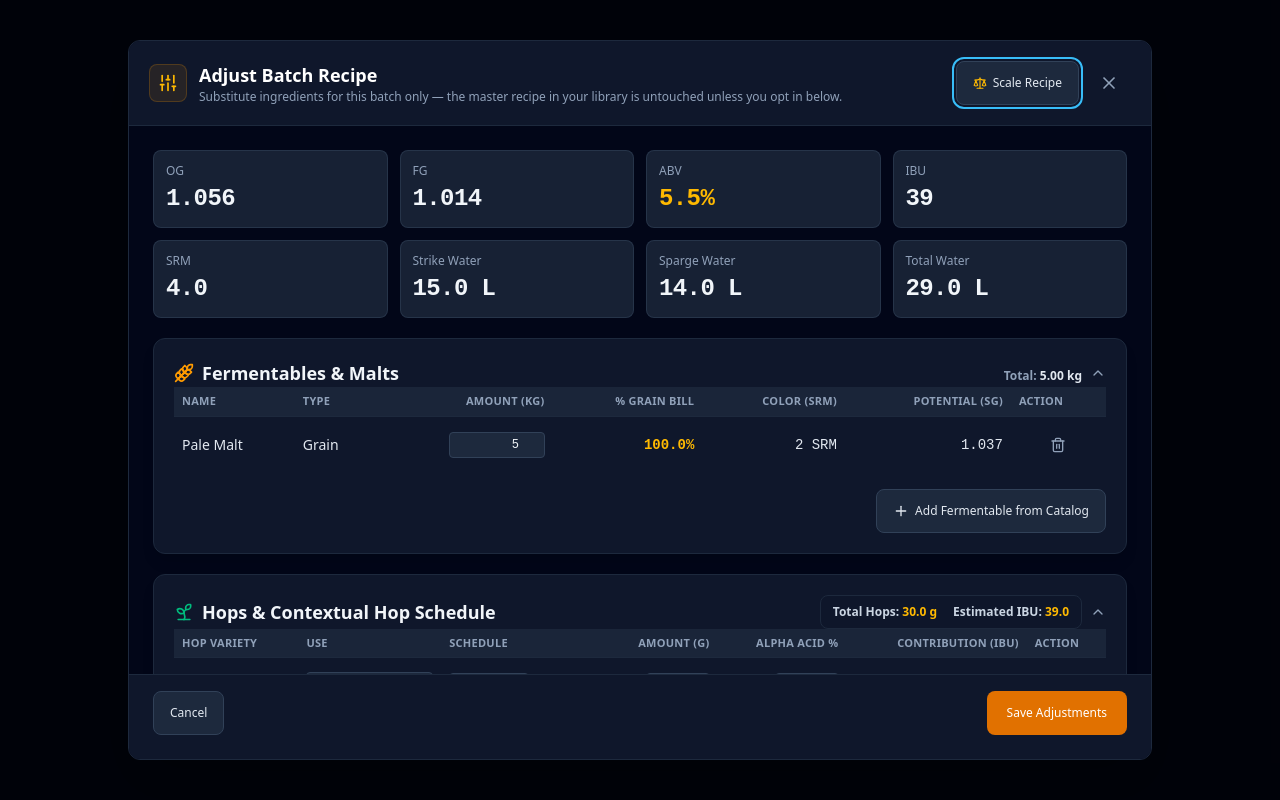
Scenario: AC-6: master recipe sync toggle › a rejected save surfaces the error and does not close the modal
Click the button with test id "batch-recipe-adjust-save-btn" at point(1057, 713), box 987,691 -> 1127,735
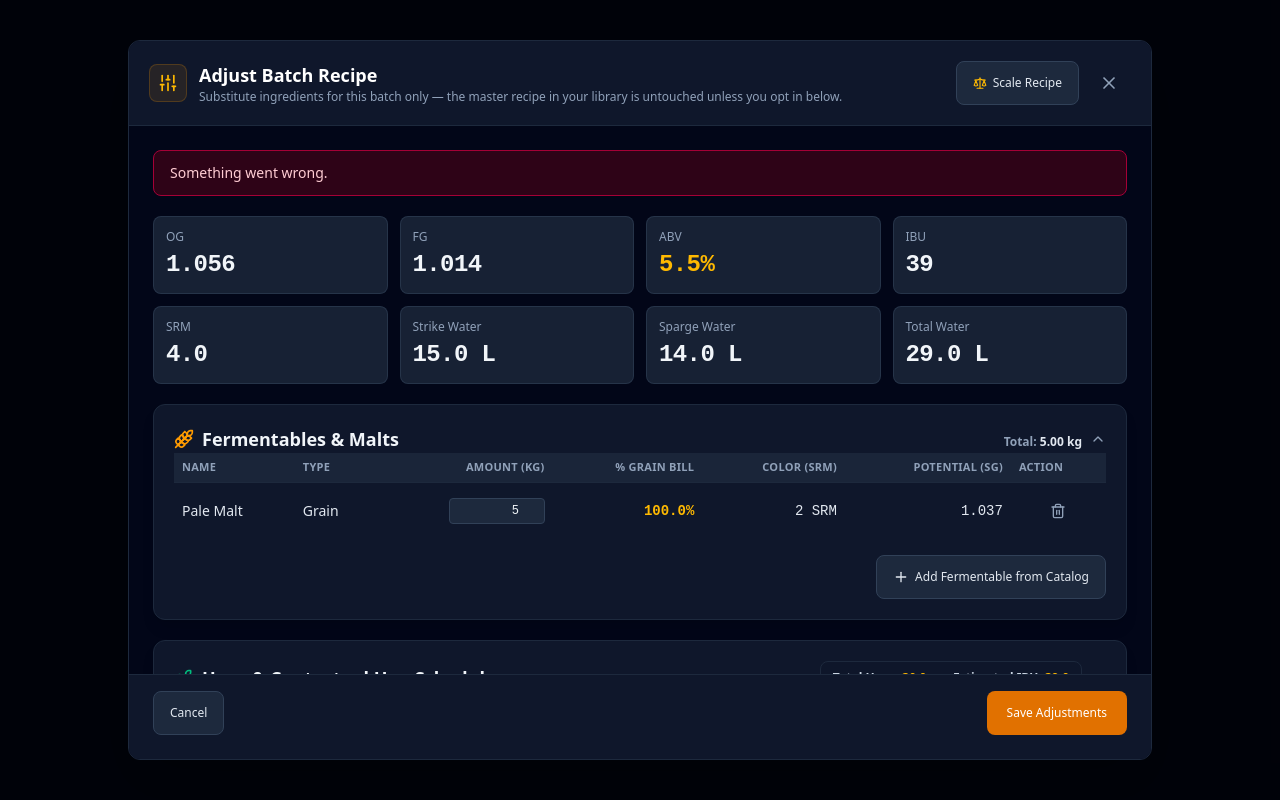
Expected: the text "Something went wrong." is shown, 153,150 -> 1127,196
Expected: the text with test id "batch-recipe-adjust-error" reads "Something went wrong.", 170,163 -> 328,182
